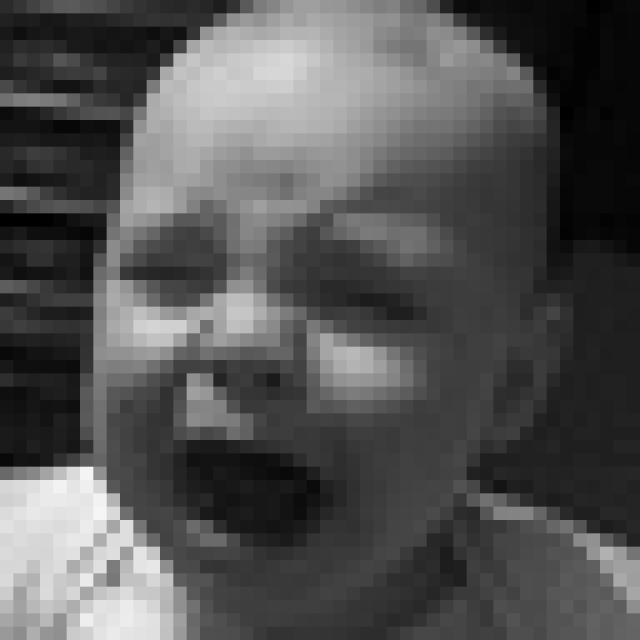sad: (112, 183, 430, 574)
